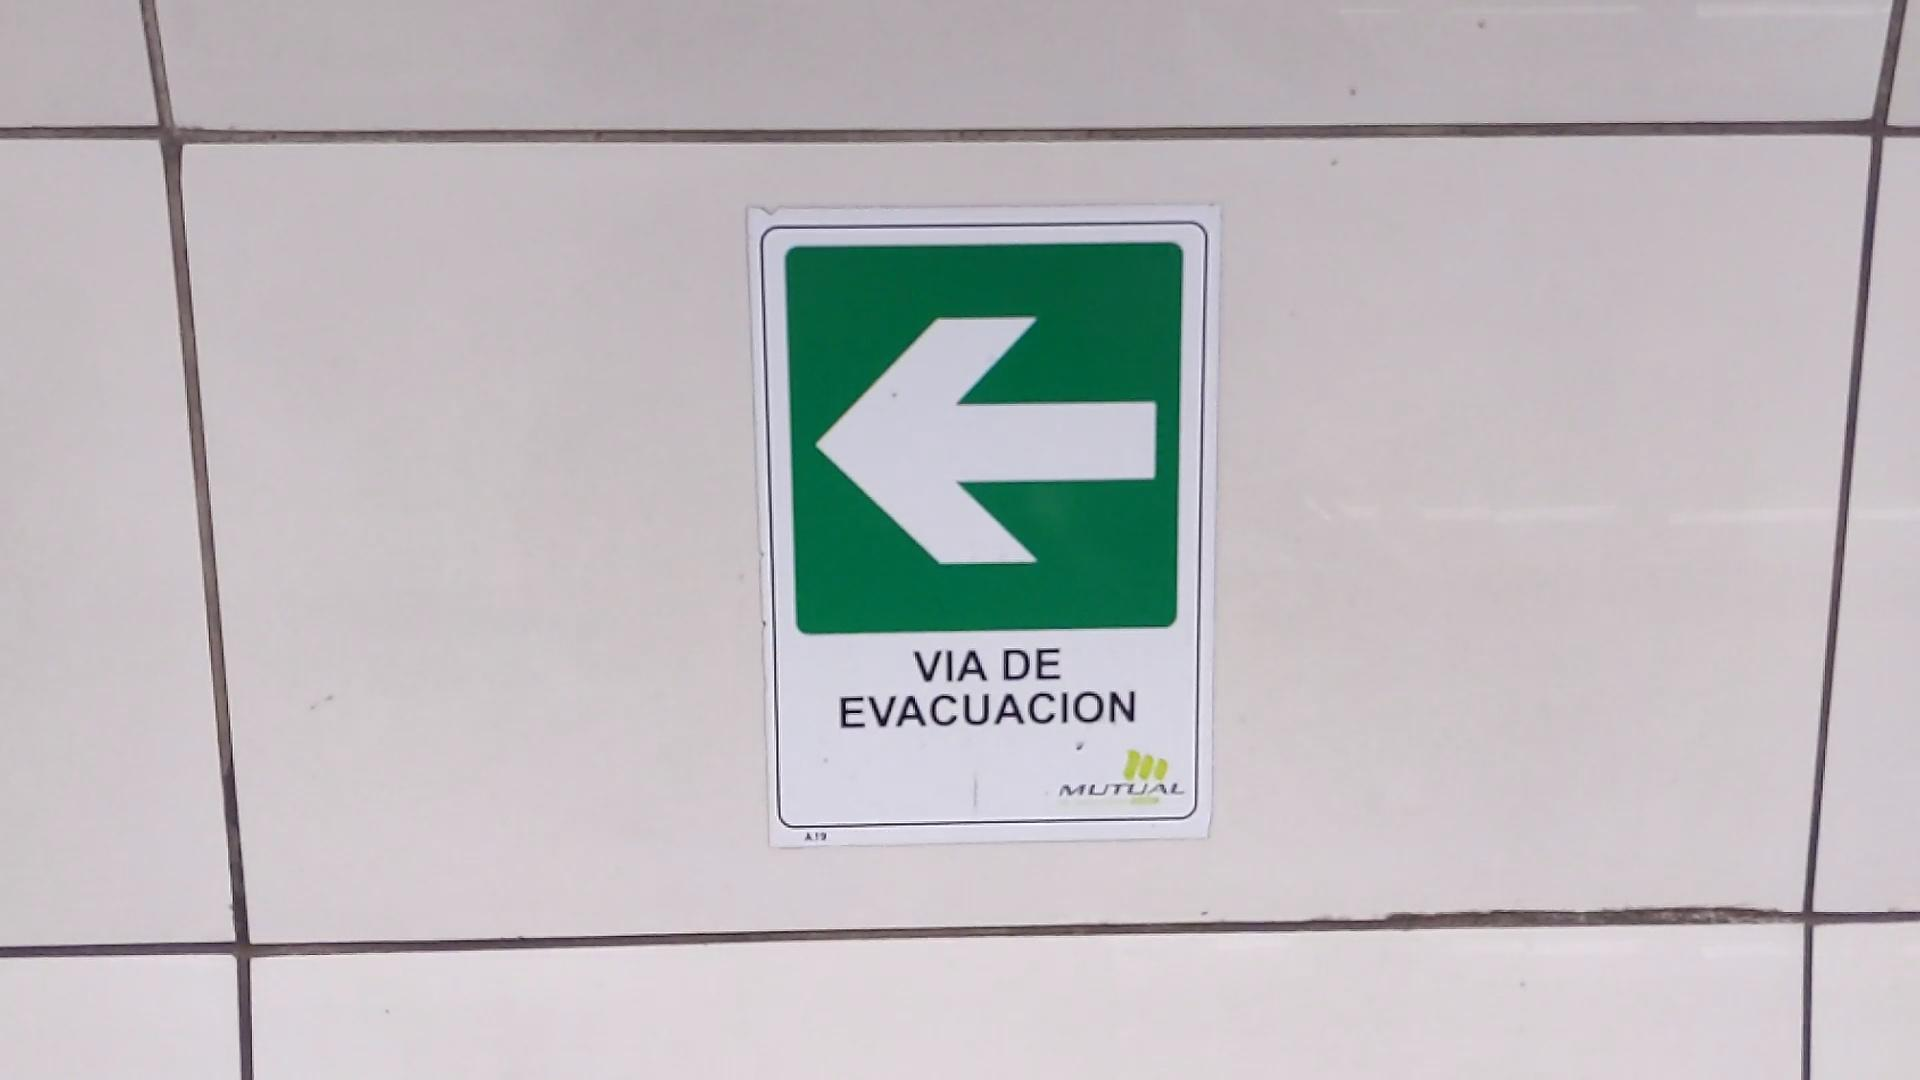left arrow: (811, 305, 1163, 576)
